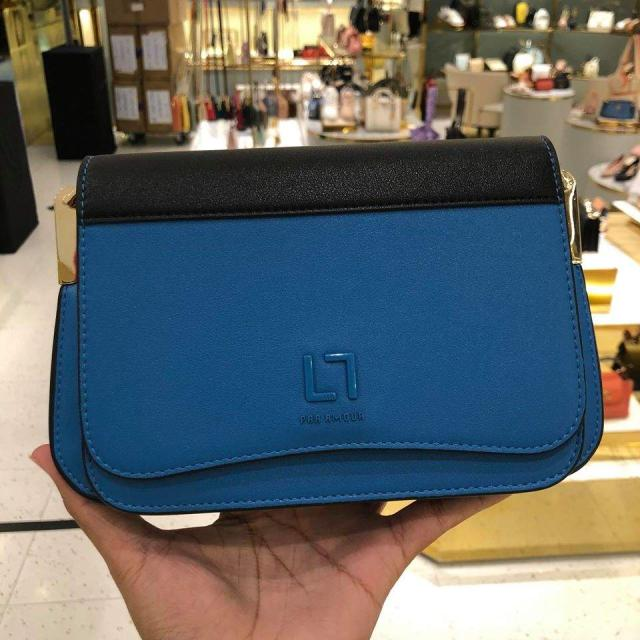Handbag: (38, 144, 614, 537)
